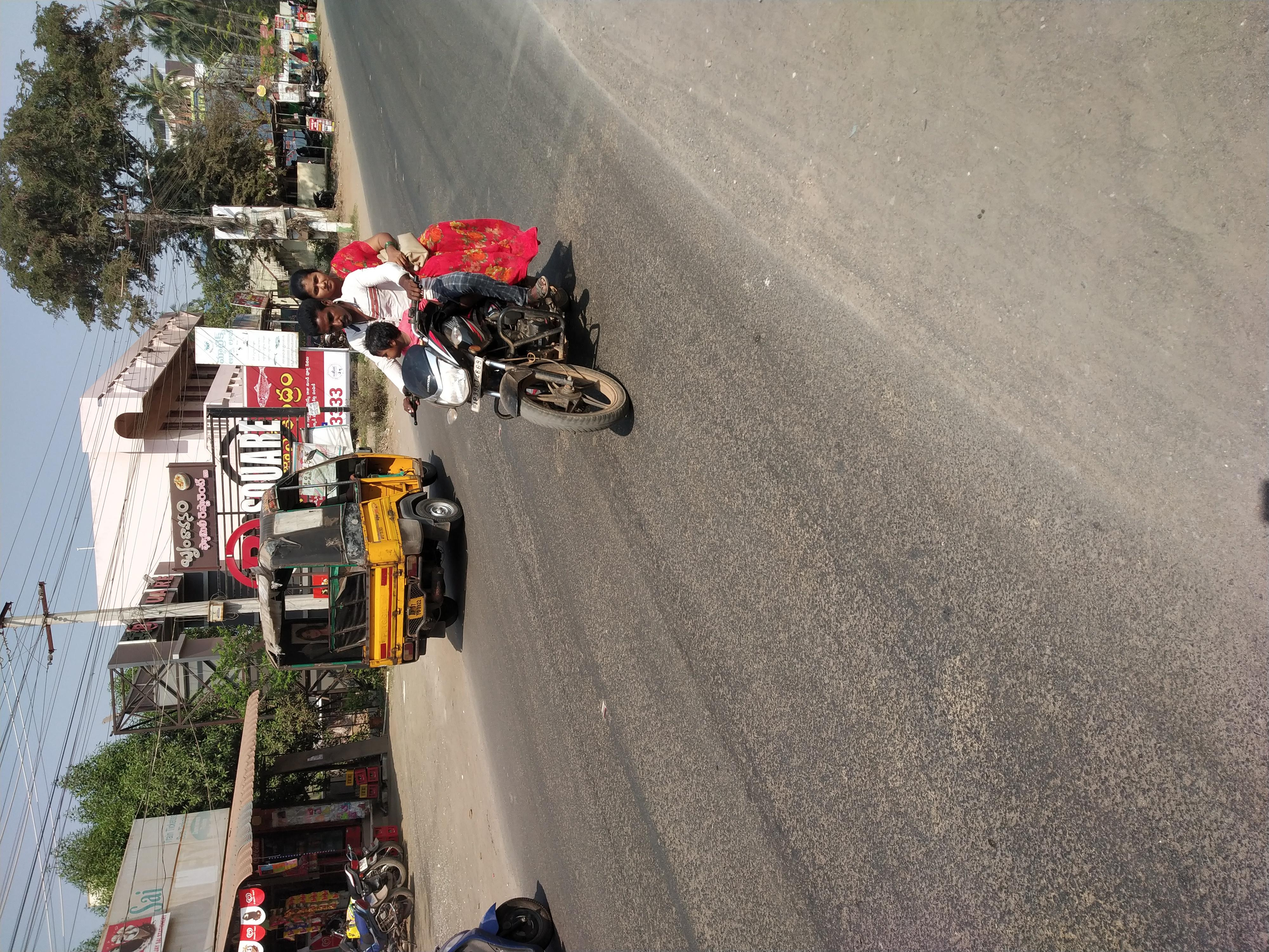Auto: (334, 180, 696, 355)
